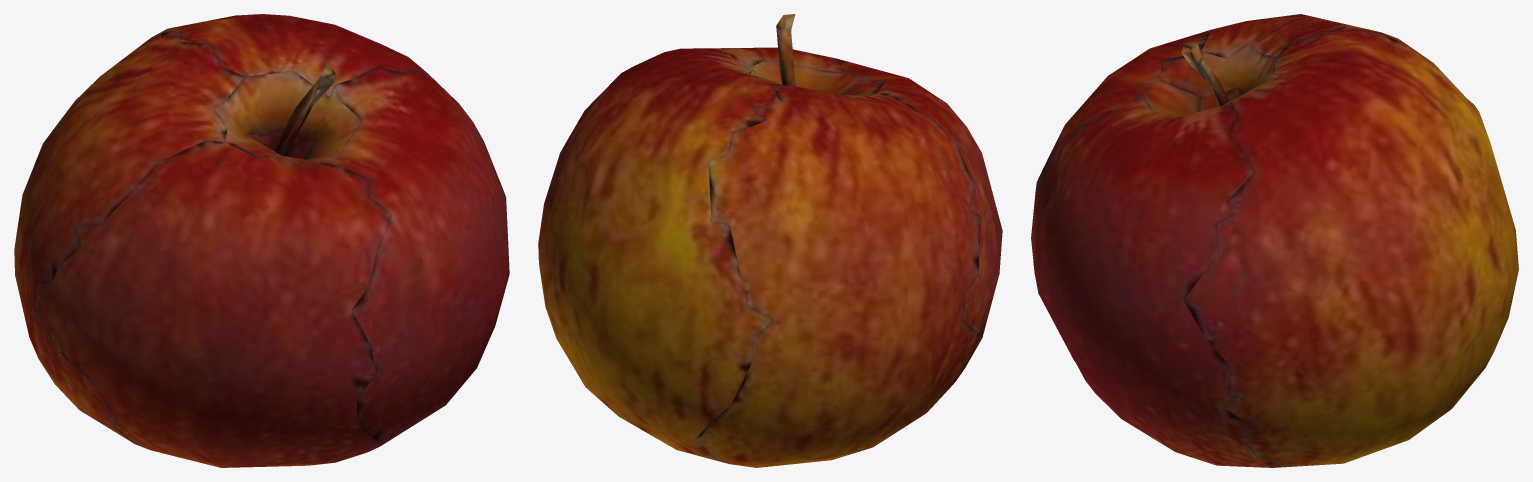
File: food_apple_01.l.394fc592.glb
3 renders of one model, left to right at view 1: azimuth 30°, elevation 25°; view 2: azimuth 150°, elevation 25°; view 3: azimuth 270°, elevation 25°, orthographic. The views are drawn at different scales.
Visible parts, largest first — view 1: food_apple_01; view 2: food_apple_01; view 3: food_apple_01.
Part boxes in pixels (x1,y1,x2,y2): food_apple_01: (14,14,509,467); food_apple_01: (538,14,1002,467); food_apple_01: (1031,14,1518,467).
Bounding box in the file's own units: 0.0969 × 0.0852 × 0.0956.
1 material, 1 textured.
